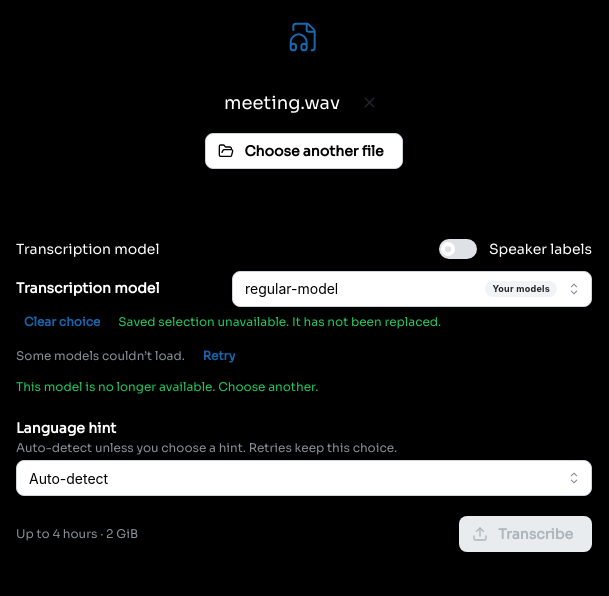
Test: File transcription › removes the selected file without uploading or changing recorder settings
Click the button named "Remove selected file" at (370, 103), box [356,89,384,117]
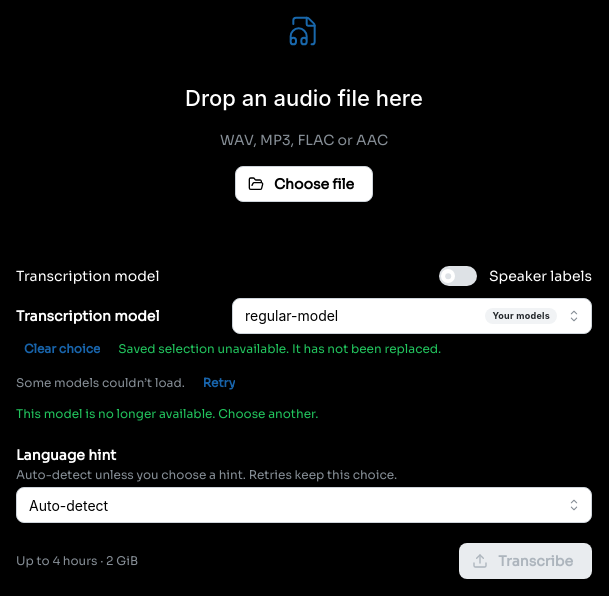
Expected: the button "Transcribe" is disabled, [459,543,592,579]
Now the text "Drop an audio file here" is shown, box [185,83,423,114]
